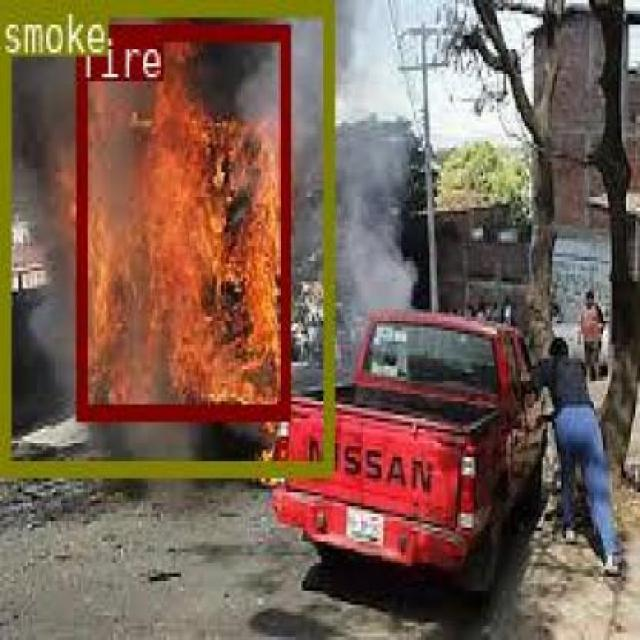Fire: (74, 22, 288, 416)
Smoke: (0, 0, 332, 471)
